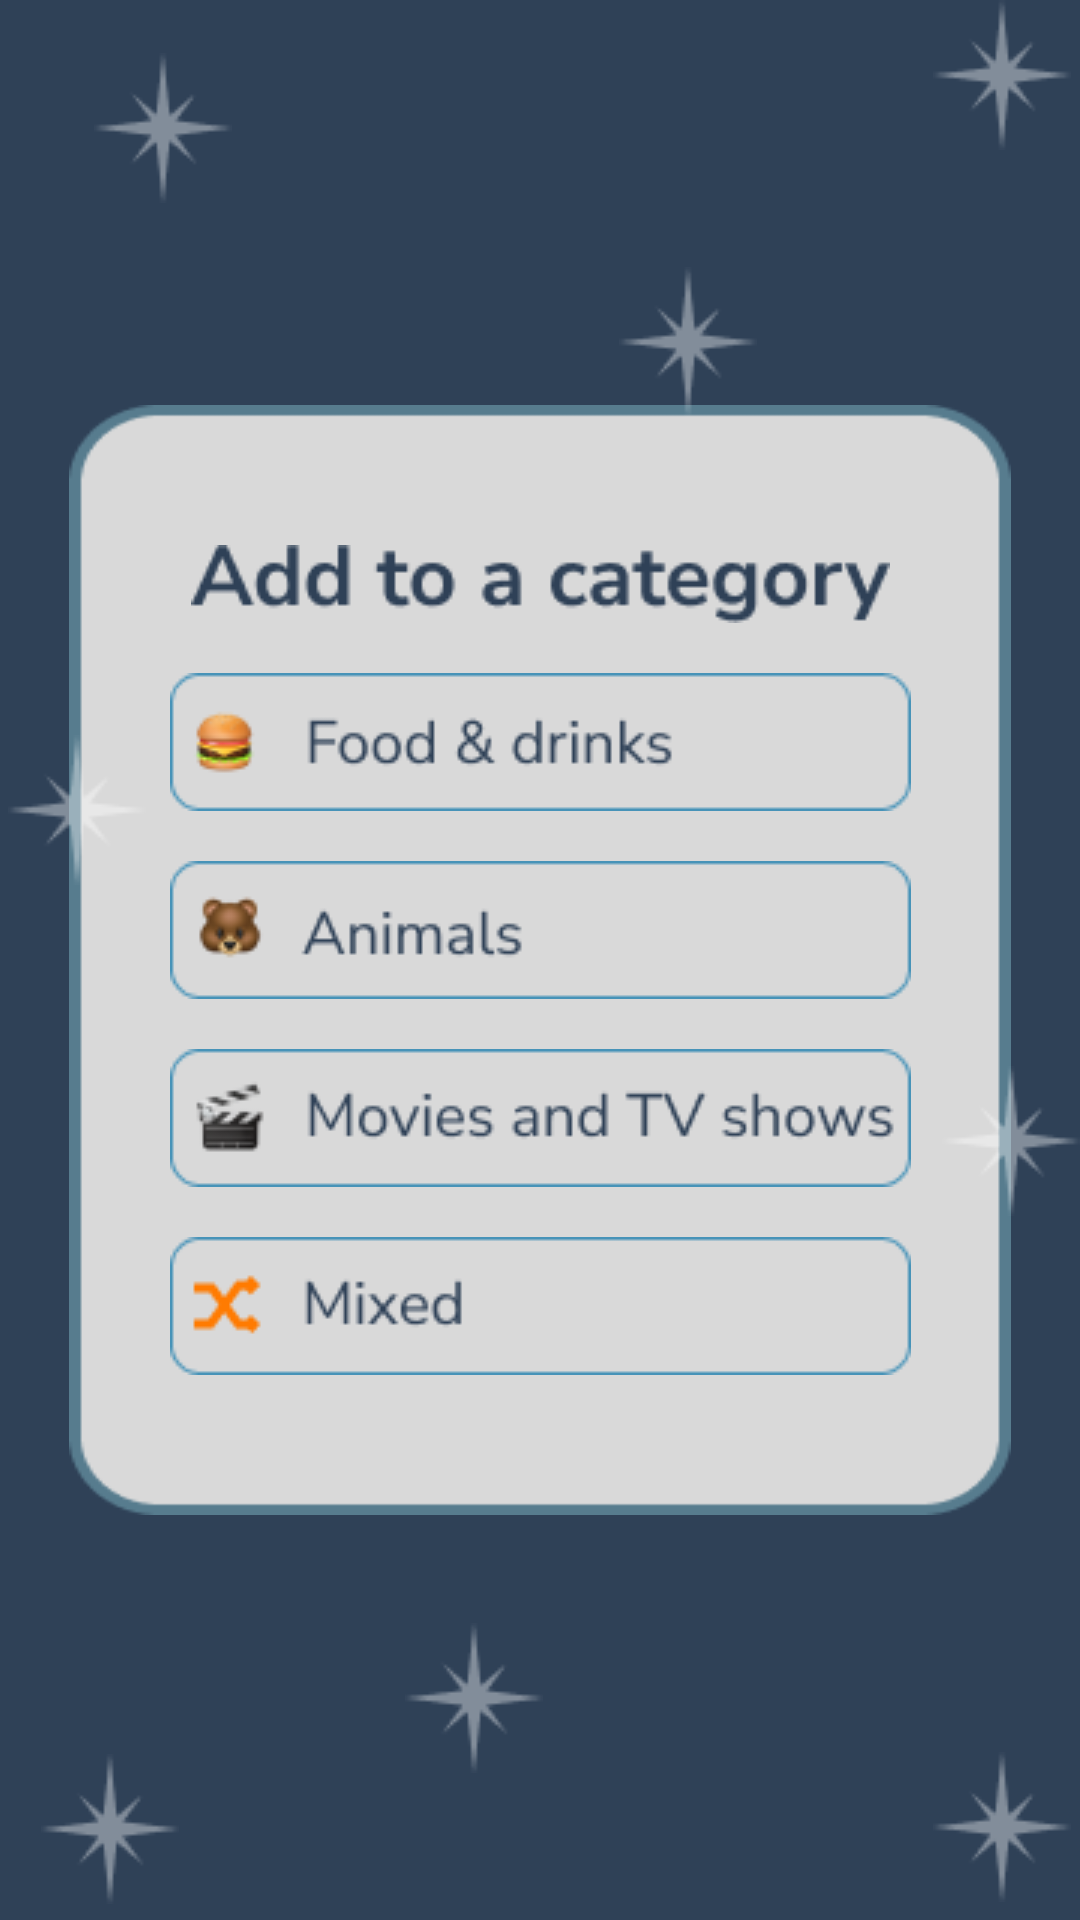

Icons on this 1080×1920 Android screen, each with the point to tap as point (x, y):
star: point (1002, 75), point (163, 128), point (688, 345), point (77, 810), point (1039, 1141), point (474, 1698), point (1002, 1827), point (110, 1829)
